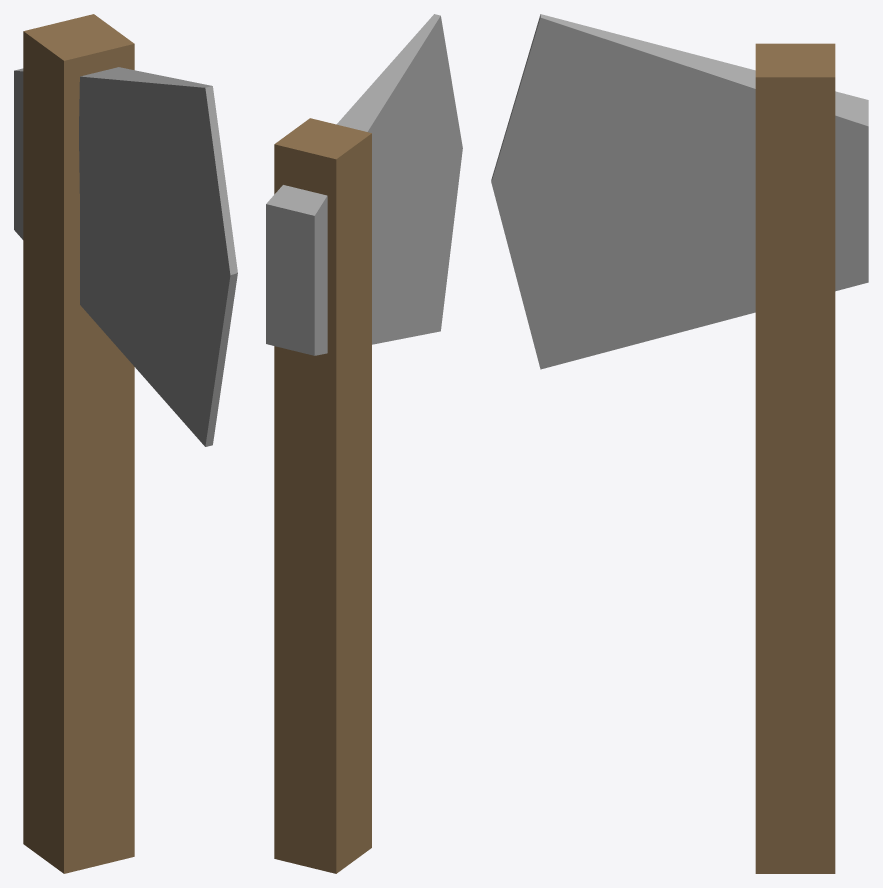
The model's file is Axe.fbx.
3 views of the same model, side by side, from view 1: azimuth 30°, elevation 25°; view 2: azimuth 150°, elevation 25°; view 3: azimuth 270°, elevation 25° (orthographic). The views are drawn at different scales.
Parts seen in each view (by area): view 1: Cube, Stone; view 2: Cube, Stone; view 3: Stone, Cube.
Boxes of the visible parts, x1,y1,x2,y2 form: Cube: (23, 14, 134, 873); Stone: (14, 67, 237, 446); Cube: (274, 118, 371, 873); Stone: (266, 14, 462, 355); Stone: (491, 14, 868, 369); Cube: (755, 43, 835, 873).
Bounding box in the file's own units: 41.08 × 479 × 194.
